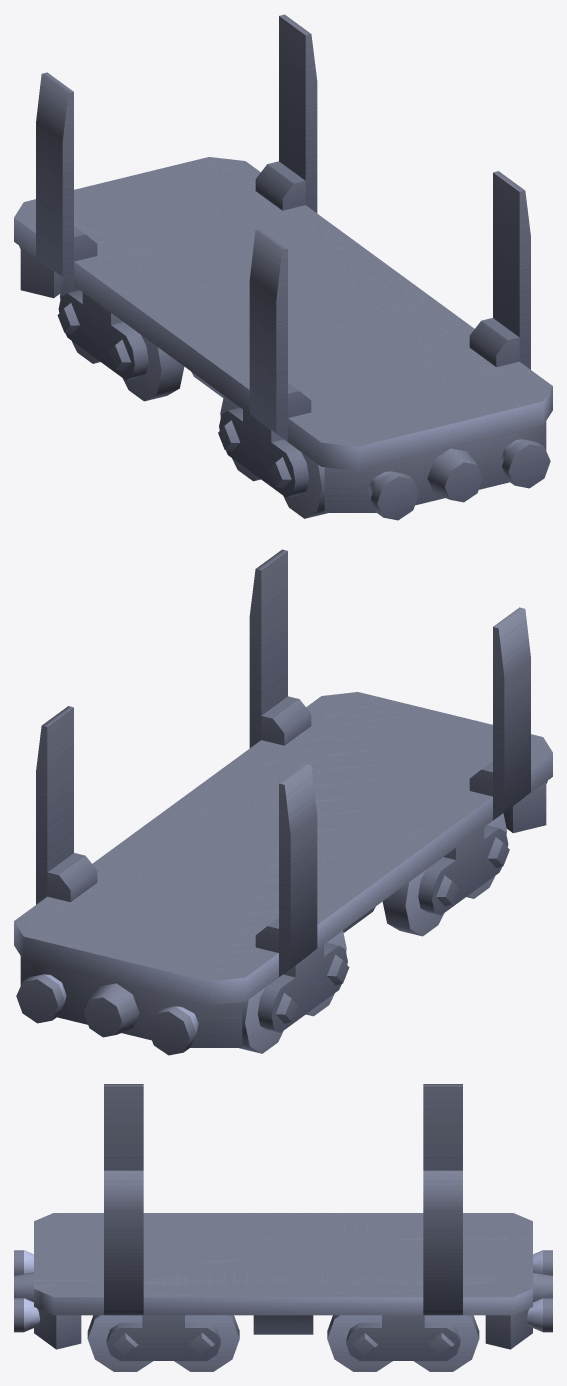
File: train-carriage-flatbed.glb
The picture shows the model from 3 angles, top to bottom: view 1: azimuth 30°, elevation 25°; view 2: azimuth 150°, elevation 25°; view 3: azimuth 270°, elevation 25°; orthographic projection. The views are drawn at different scales.
Parts seen in each view (by area): view 1: train-carriage-flatbed, wheels-back, wheels-front; view 2: train-carriage-flatbed, wheels-front, wheels-back; view 3: train-carriage-flatbed, wheels-back, wheels-front.
Boxes of the visible parts, box(x1,y1,x2,y2) form: train-carriage-flatbed: box(14, 14, 552, 520); wheels-back: box(57, 278, 184, 401); wheels-front: box(218, 396, 327, 518); train-carriage-flatbed: box(14, 549, 552, 1055); wheels-front: box(382, 813, 509, 936); wheels-back: box(239, 931, 349, 1053); train-carriage-flatbed: box(14, 1084, 552, 1349); wheels-back: box(327, 1315, 479, 1371); wheels-front: box(87, 1315, 239, 1371).
Size of the model in its own units: 1.1 by 1.16 by 2.7.
1 material, 1 textured.
